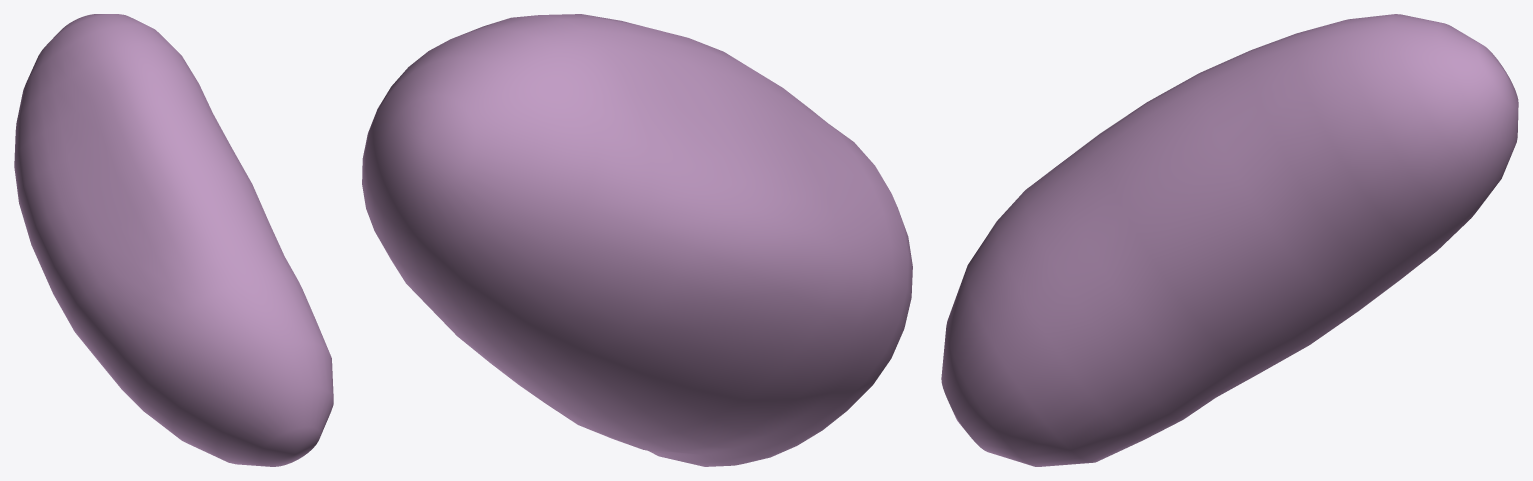
3 renders of one model, left to right at view 1: azimuth 30°, elevation 25°; view 2: azimuth 150°, elevation 25°; view 3: azimuth 270°, elevation 25°, orthographic. The views are drawn at different scales.
Parts seen in each view (by area): view 1: 右侧锥体; view 2: 右侧锥体; view 3: 右侧锥体.
Boxes of the visible parts, x1,y1,x2,y2 form: 右侧锥体: (14, 14, 333, 466); 右侧锥体: (362, 14, 912, 466); 右侧锥体: (941, 14, 1518, 466).
Bounding box in the file's own units: 0.00991 × 0.0162 × 0.0197.
